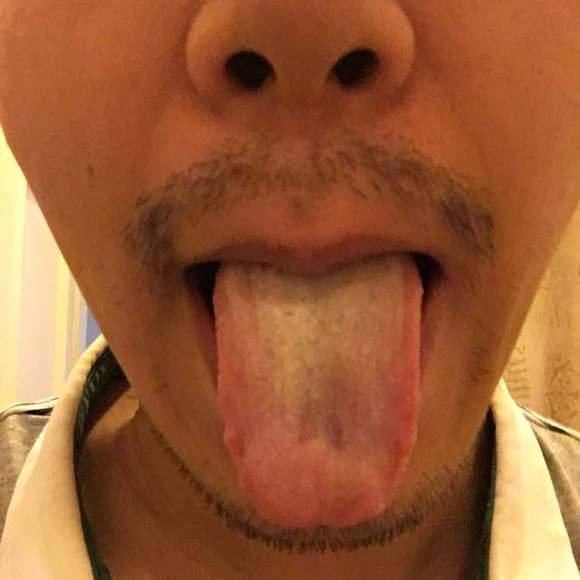chihenshe: (219, 377, 249, 481)
hongshe: (213, 255, 423, 527)
huangtaishe: (213, 255, 423, 527)
